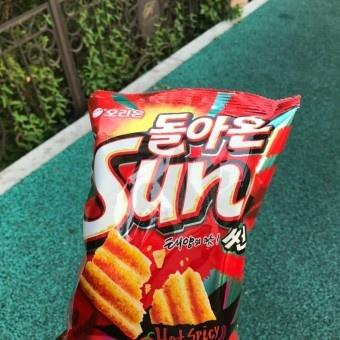snack: (54, 88, 302, 340)
